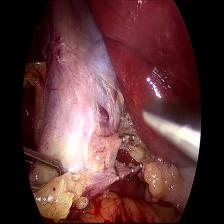Grasper: (21, 145, 66, 194)
Scissors: (141, 97, 205, 159)
